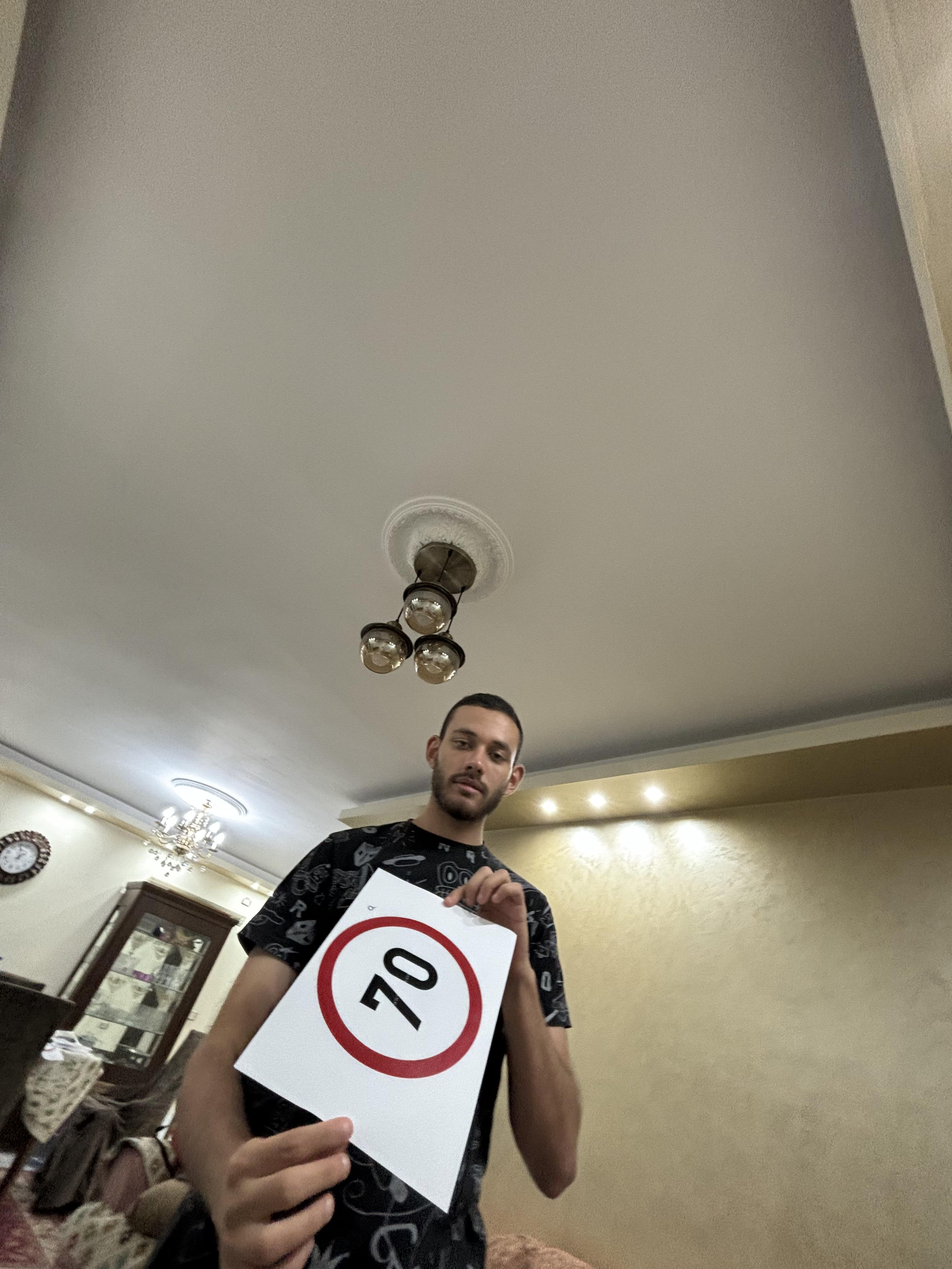70-Speed: (312, 898, 490, 1084)
